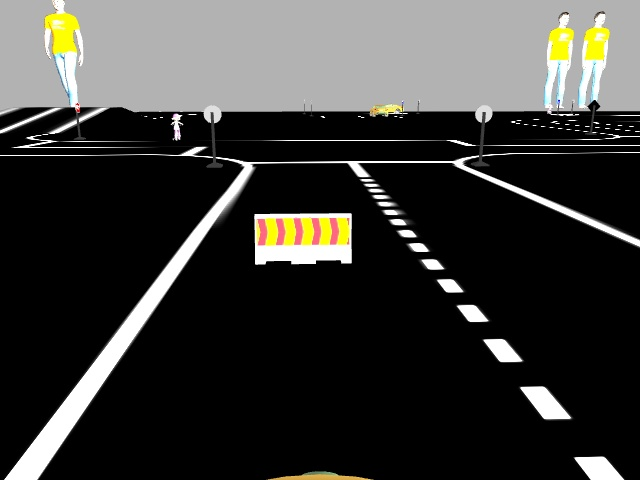ClosedRoadStand: (255, 214, 351, 262)
